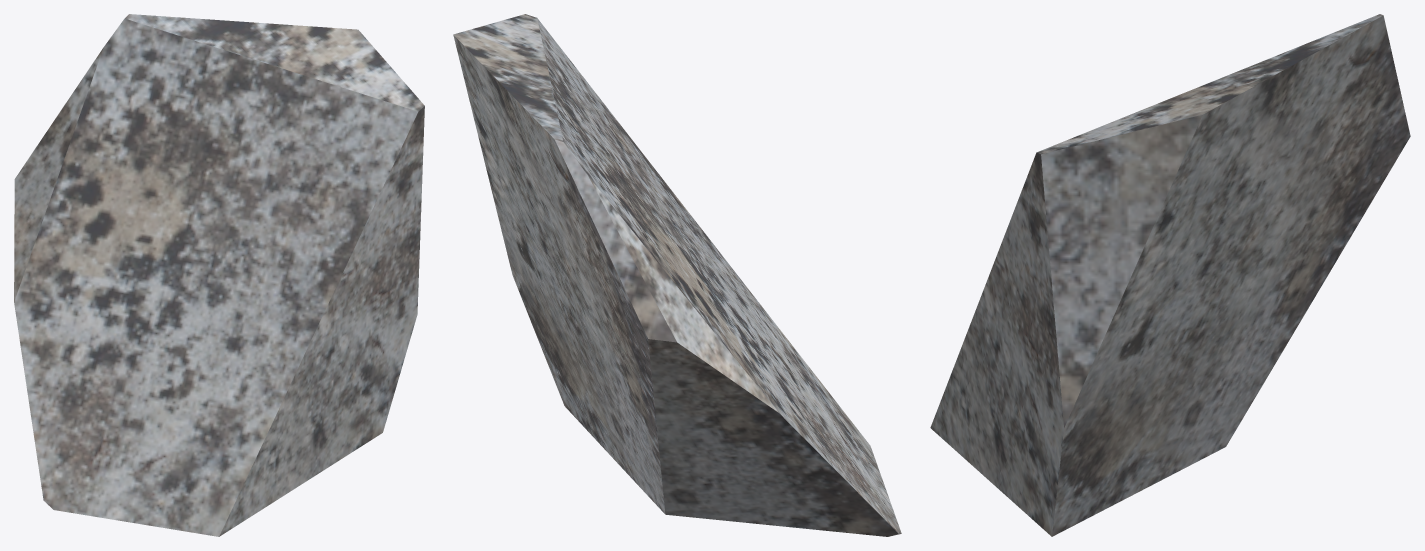
File: Asteroid_Large_001_02_008_03_017.fbx
3 views of the same model, side by side, from view 1: azimuth 30°, elevation 25°; view 2: azimuth 150°, elevation 25°; view 3: azimuth 270°, elevation 25° (orthographic). The views are drawn at different scales.
Visible parts, largest first — view 1: Asteroid_Large_001_02_008_03_017; view 2: Asteroid_Large_001_02_008_03_017; view 3: Asteroid_Large_001_02_008_03_017.
Part boxes in pixels (box(x1,y1,x2,y2)): Asteroid_Large_001_02_008_03_017: box(14, 14, 424, 536); Asteroid_Large_001_02_008_03_017: box(453, 14, 901, 536); Asteroid_Large_001_02_008_03_017: box(930, 14, 1410, 536).
Size of the model in its own units: 7.49 by 7.55 by 7.02.
